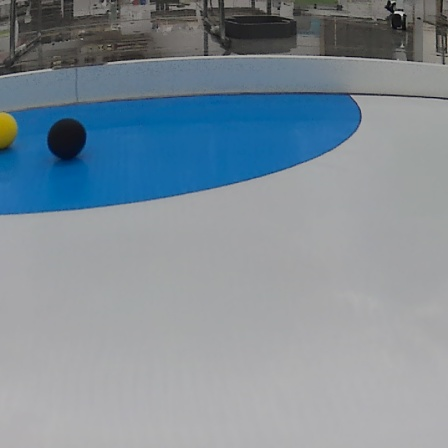black: (47, 117, 103, 159)
blue_base: (0, 96, 367, 218)
yellow: (0, 108, 21, 149)
